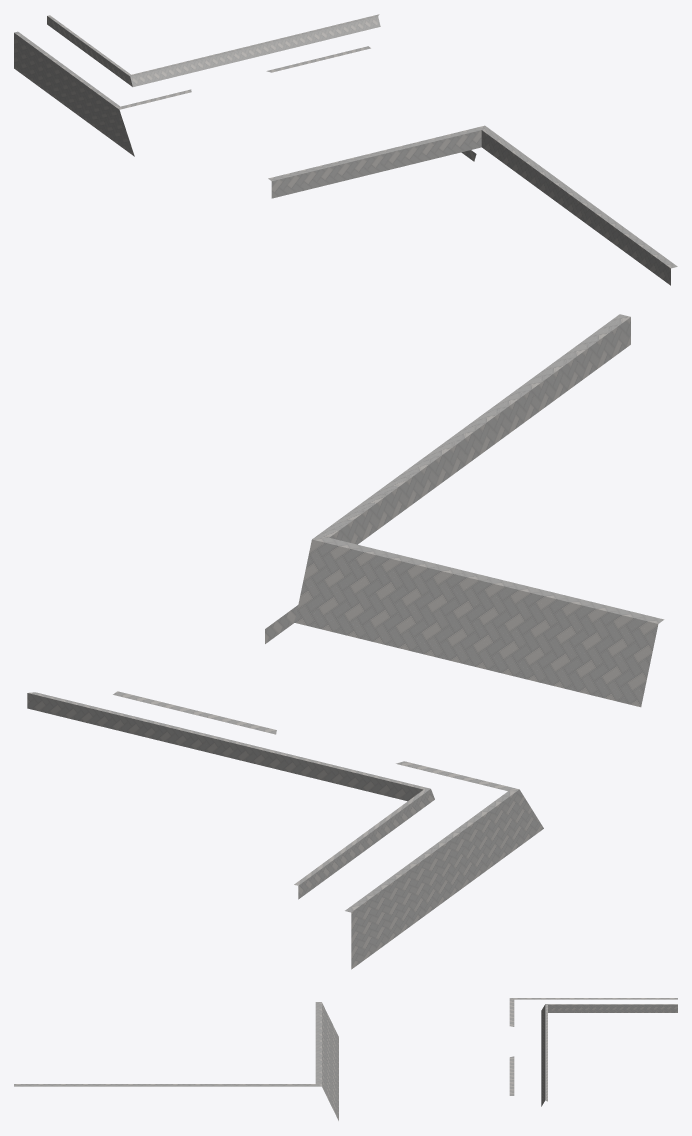
Rendered from kd_stage_135ded_2_6.glb.
3 views of the same model, one above another, from view 1: azimuth 30°, elevation 25°; view 2: azimuth 150°, elevation 25°; view 3: azimuth 270°, elevation 25° (orthographic). The views are drawn at different scales.
Parts seen in each view (by area): view 1: kd_stage_135ded_2_6; view 2: kd_stage_135ded_2_6; view 3: kd_stage_135ded_2_6.
Boxes of the visible parts, x1,y1,x2,y2 form: kd_stage_135ded_2_6: [14, 14, 677, 285]; kd_stage_135ded_2_6: [27, 314, 664, 969]; kd_stage_135ded_2_6: [14, 998, 677, 1120].
Size of the model in its own units: 34.33 by 5.29 by 87.02.
1 material, 1 textured.
